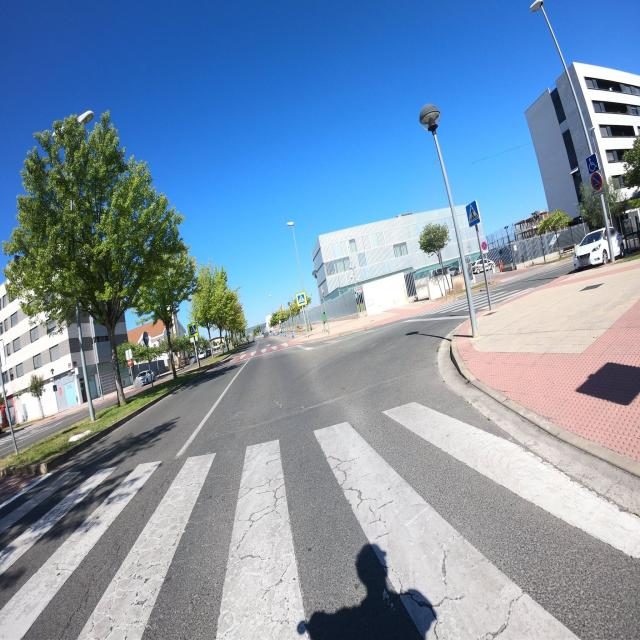forb_stopping: (590, 171, 602, 190)
forb_waiting: (482, 242, 487, 250)
